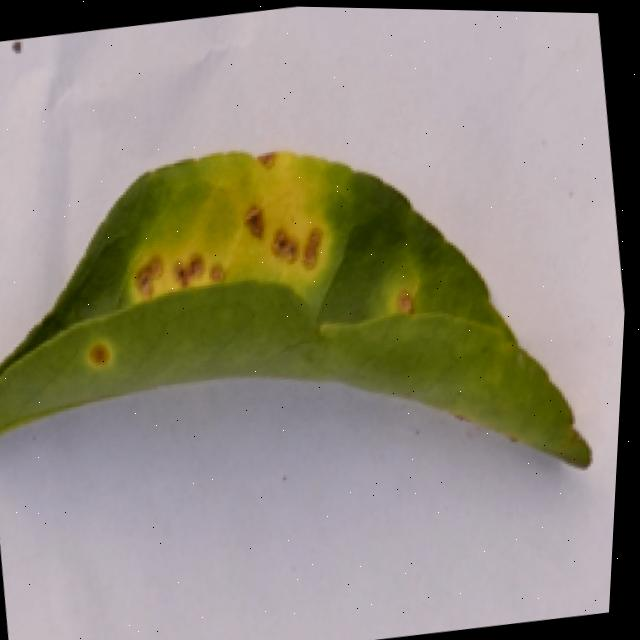canker: (0, 154, 588, 467), (125, 179, 347, 306), (369, 273, 441, 333), (69, 333, 121, 376)
